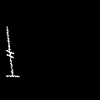treble_crochet: (6, 30, 18, 76)
